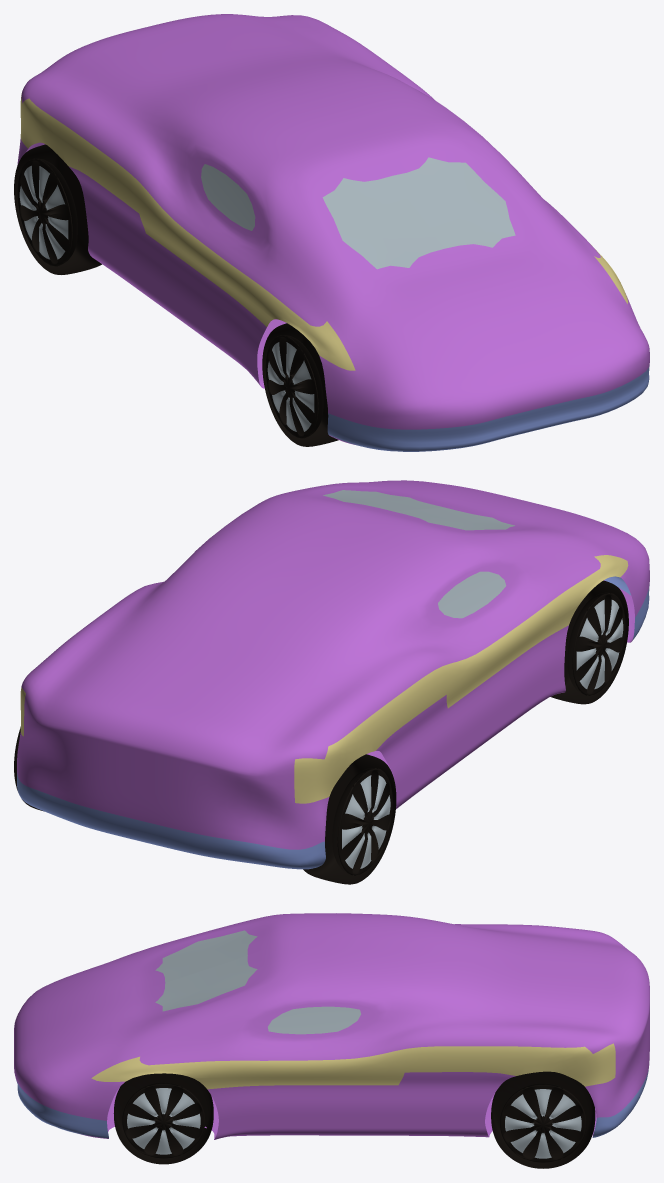
The model's file is MobilBalap.fbx.
The picture shows the model from 3 angles, top to bottom: view 1: azimuth 30°, elevation 25°; view 2: azimuth 150°, elevation 25°; view 3: azimuth 270°, elevation 25°; orthographic projection. The views are drawn at different scales.
Visible parts, largest first — view 1: MOBIL, roda kanan blkng, roda kanan; view 2: MOBIL, roda kanan blkng, roda kanan; view 3: MOBIL, roda kiri blkng, roda kiri.
Boxes of the visible parts, box(x1,y1,x2,y2) form: MOBIL: box(17, 14, 649, 451); roda kanan blkng: box(14, 144, 101, 274); roda kanan: box(262, 323, 338, 446); MOBIL: box(17, 480, 649, 869); roda kanan blkng: box(303, 754, 396, 884); roda kanan: box(550, 580, 628, 704); MOBIL: box(14, 913, 649, 1139); roda kiri blkng: box(491, 1071, 595, 1168); roda kiri: box(113, 1073, 213, 1164).
Bounding box in the file's own units: 262 × 159 × 554.
